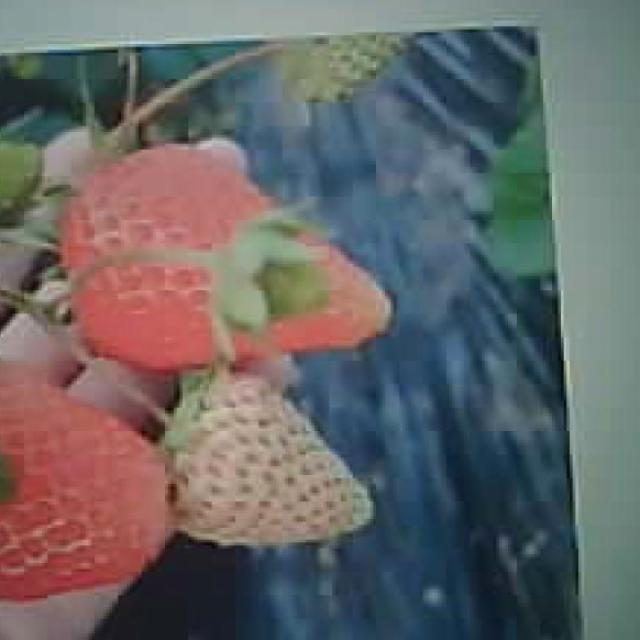Healthy Fruit: (64, 155, 400, 368), (0, 377, 181, 595), (157, 379, 375, 551)
